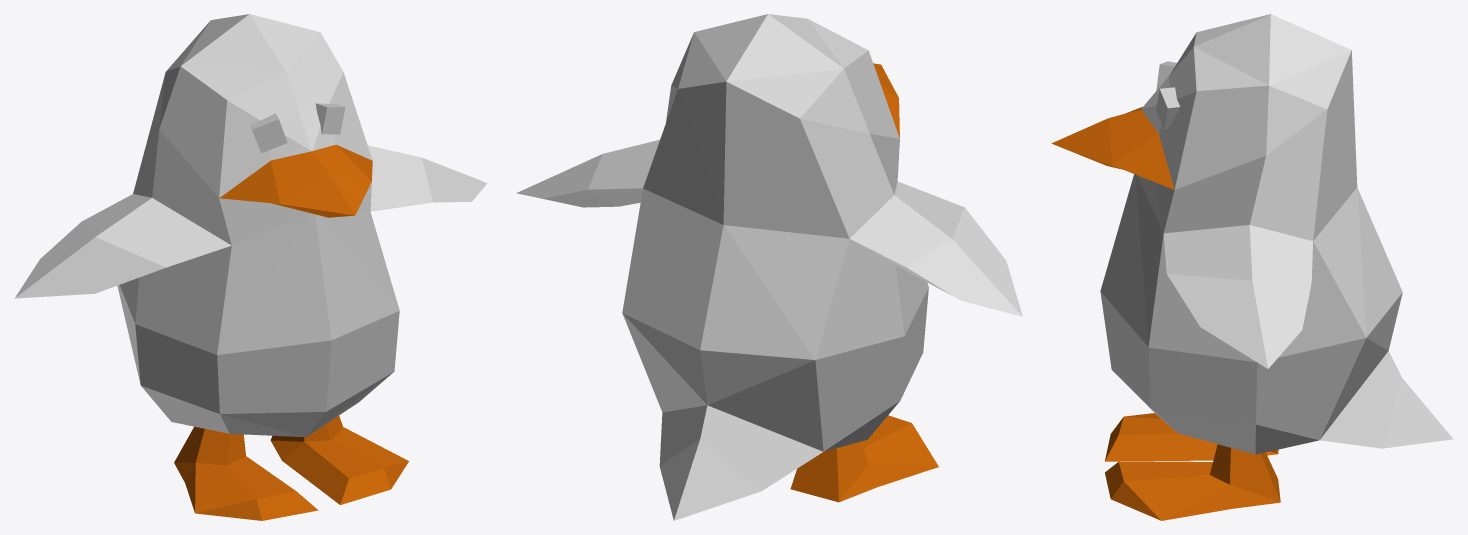
Rendered from penguin_upright.dae.
3 renders of one model, left to right at view 1: azimuth 30°, elevation 25°; view 2: azimuth 150°, elevation 25°; view 3: azimuth 270°, elevation 25°, orthographic. The views are drawn at different scales.
Parts seen in each view (by area): view 1: penguin_upright; view 2: penguin_upright; view 3: penguin_upright.
Part boxes in pixels (x1,y1,x2,y2): penguin_upright: (14, 14, 487, 520); penguin_upright: (516, 14, 1022, 520); penguin_upright: (1051, 14, 1453, 520).
Bounding box in the file's own units: 4.25 × 3.01 × 3.74.
